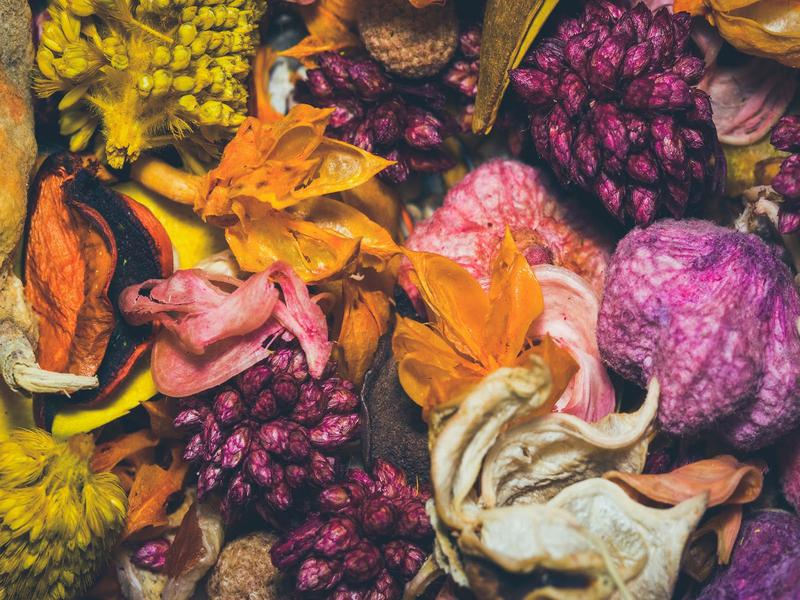flowers: (142, 364, 439, 600), (503, 215, 800, 451), (469, 1, 754, 231), (446, 422, 800, 600), (141, 103, 396, 282), (21, 1, 276, 171), (388, 224, 599, 414), (119, 261, 345, 390), (3, 419, 138, 599), (20, 170, 124, 377)
